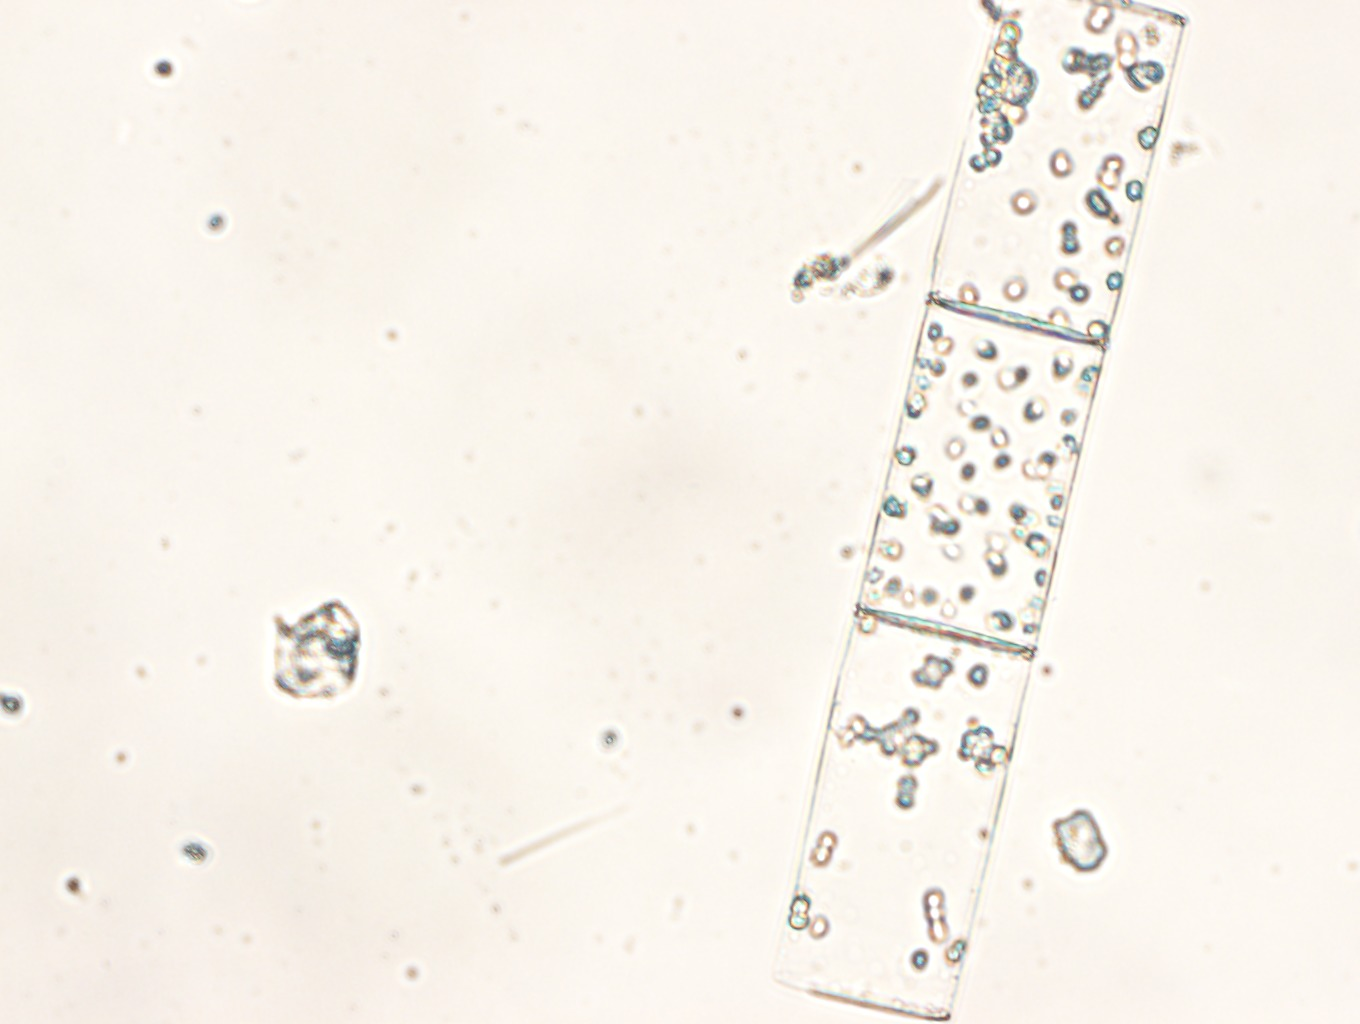guinardia flaccida: (774, 1, 1189, 1024)
